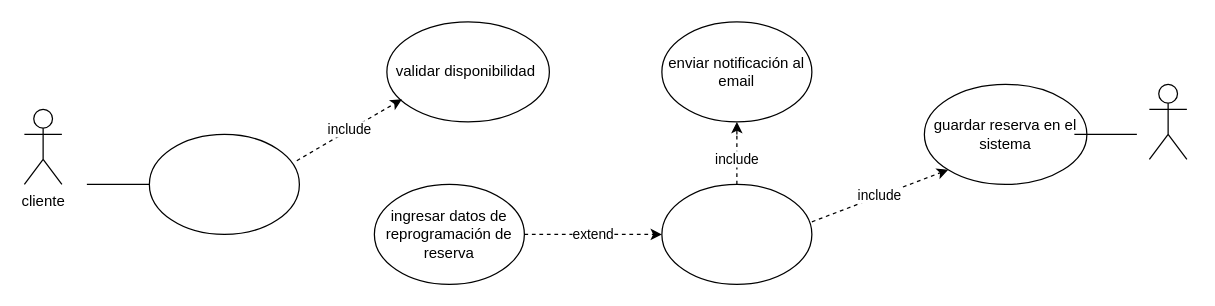
The diagram is 1215 pixels wide and 306 high, and some of its shapes have lost their labels. The shapes that lost their labels are listed below. From the top down, each one's box as (x1, y1, x2, y2) in pixels, then its label:
(1148, 83, 1187, 159): sistema
(148, 133, 299, 234): reprogramación reservas
(661, 183, 812, 284): Mostrar resumen de la reserva
